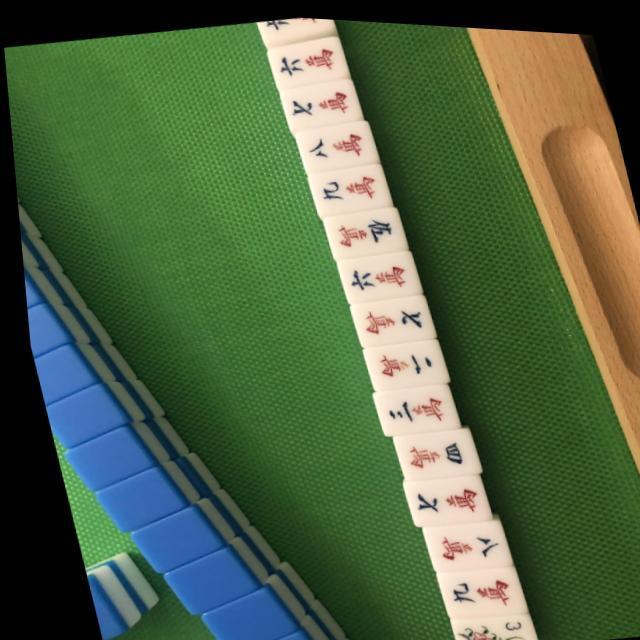bf3: (444, 603, 522, 640)
sc2: (364, 336, 438, 384)
sc3: (370, 379, 446, 432)
sc4: (392, 424, 469, 475)
sc5: (323, 205, 397, 252)
sc6: (336, 248, 416, 300), (269, 35, 341, 82)
sc7: (398, 471, 481, 522), (350, 294, 424, 342), (283, 81, 353, 123)
sc8: (422, 515, 498, 566), (298, 116, 372, 168)
sc9: (433, 564, 510, 612), (312, 163, 384, 209)
